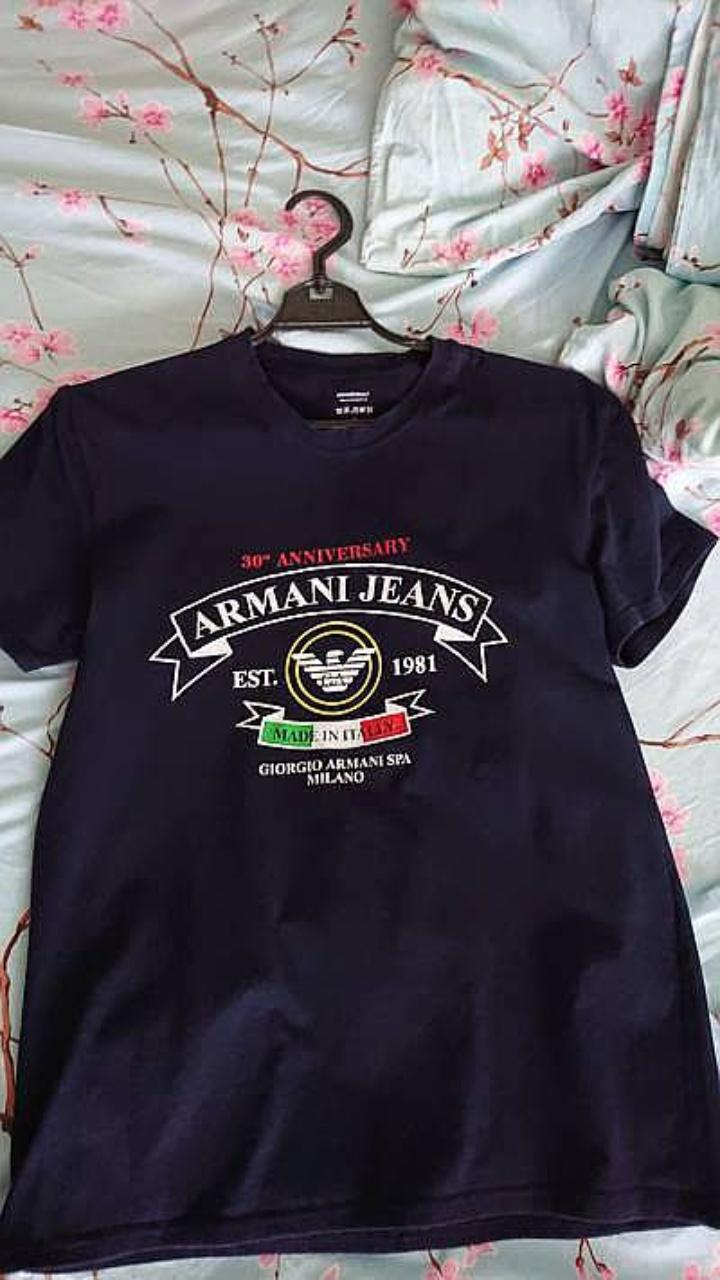T-Shirt: (0, 329, 719, 1271)
